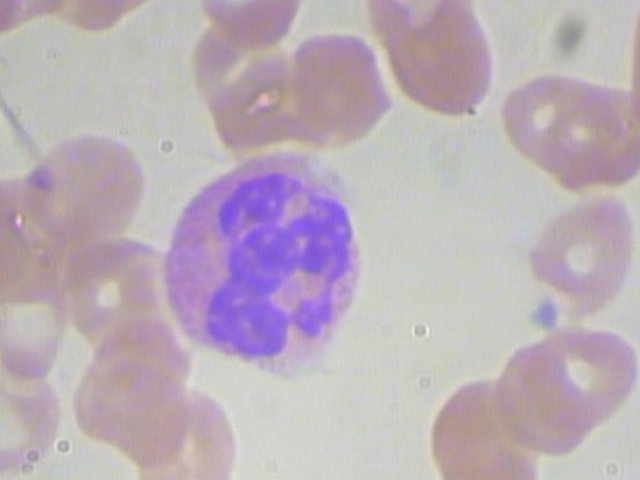Platelets: (521, 295, 565, 335)
RBC: (276, 22, 402, 148), (28, 119, 153, 245), (372, 0, 497, 123), (518, 191, 640, 317), (527, 317, 640, 443), (0, 356, 69, 480)
WBC: (142, 140, 376, 377)
